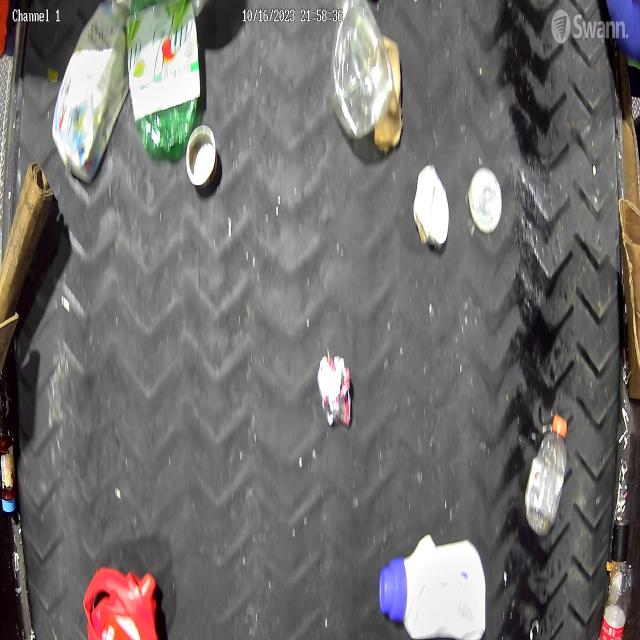can: (316, 353, 352, 430), (185, 124, 218, 192), (468, 168, 502, 234)
non_white_jug: (52, 0, 131, 185), (82, 562, 162, 640)
plastic_bottle: (329, 0, 395, 143), (524, 410, 569, 538), (597, 559, 634, 640)
